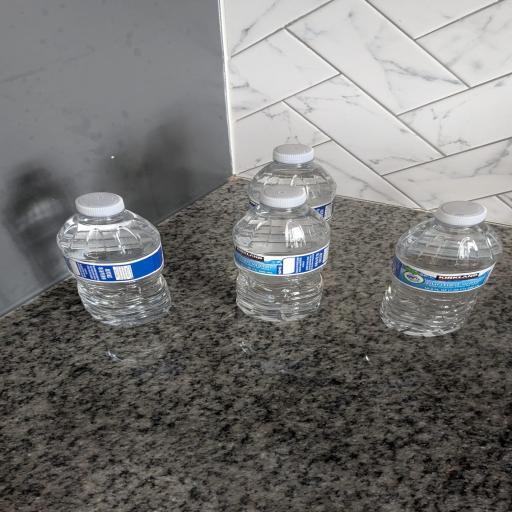waterbottle: (381, 201, 501, 336), (57, 193, 170, 325), (233, 186, 330, 321), (249, 144, 336, 221)
